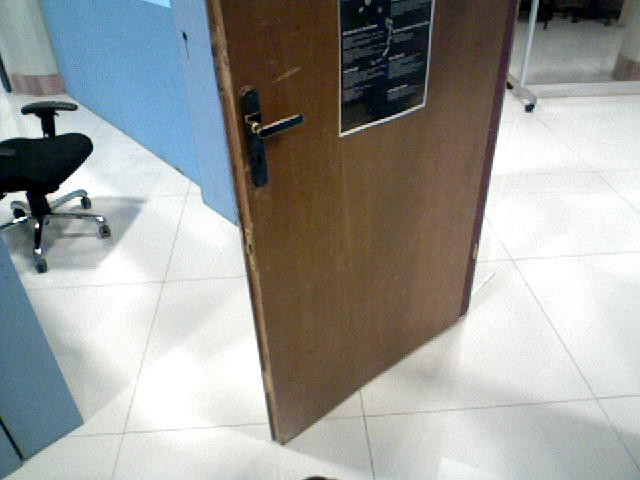door_handle: (238, 83, 303, 194)
